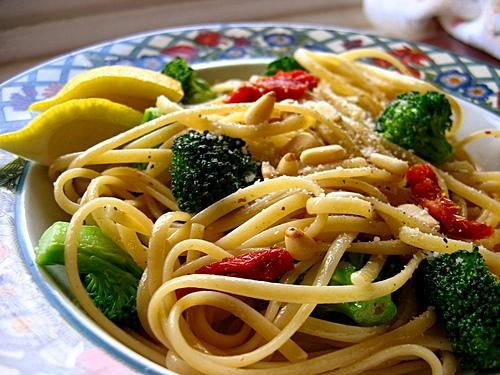broccoli: (413, 245, 500, 372), (36, 221, 144, 318), (168, 129, 264, 214), (374, 92, 455, 164), (316, 260, 397, 327), (160, 56, 218, 105), (132, 107, 167, 171), (265, 56, 310, 76)
lemon: (0, 98, 144, 166), (28, 65, 184, 114)
